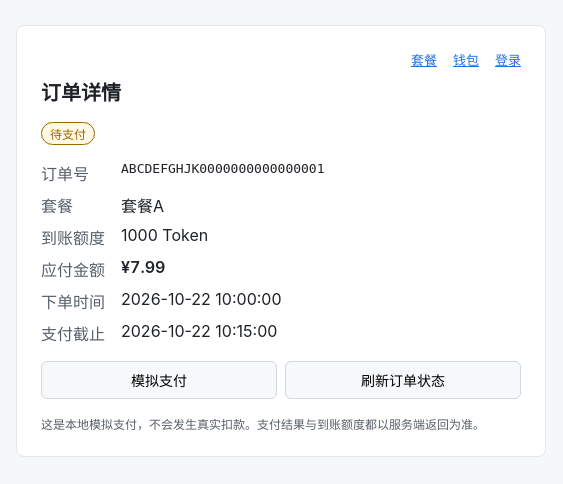
订单详情页 › 支付时订单不存在（或属于他人）显示统一文案
Click the button "模拟支付". click: (159, 380)
box: [41,361,277,399]
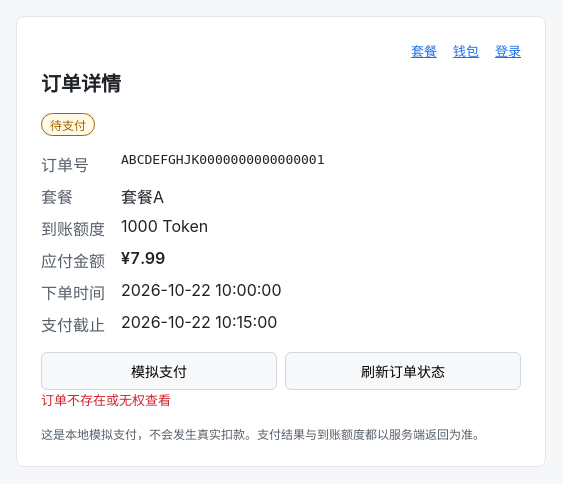
Check: the message reads "订单不存在或无权查看", box [41,392,171,408]
